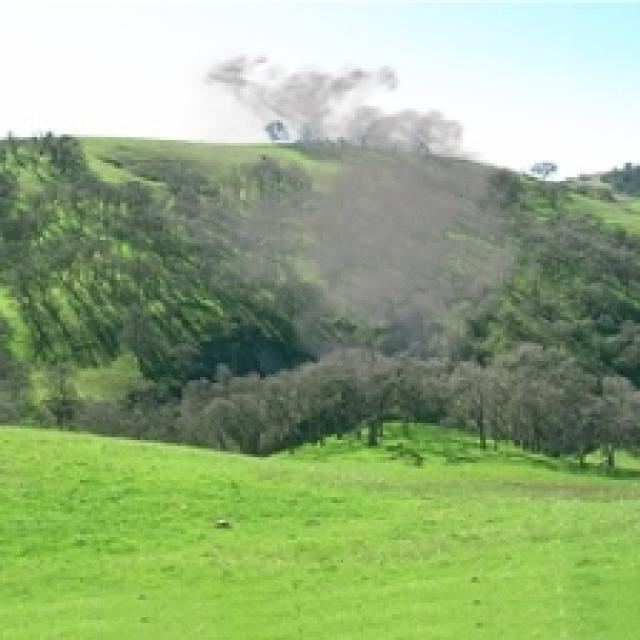Smoke: (134, 43, 552, 400)
